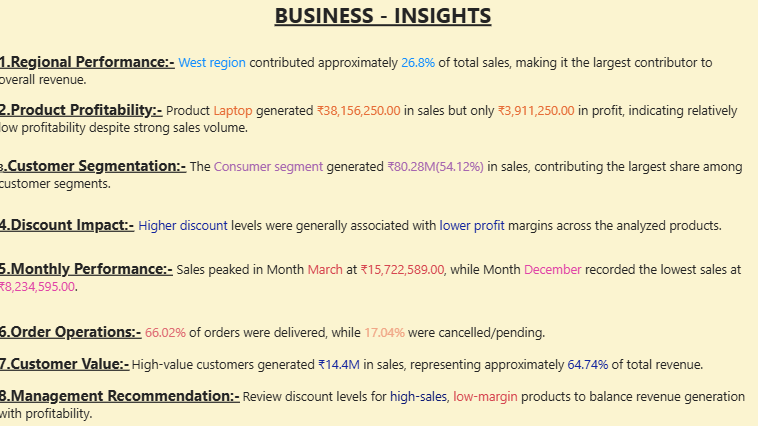

This screenshot's page, from the dashboard's own definition file:
{"tool":"powerbi","page":{"name":"05.Business Insights Analyze","canvas":[1920,1080],"ordinal":4},"visuals":[{"type":"textbox","box":[0,128.5,1892.3,100.8],"z":0},{"type":"textbox","box":[0,249.4,1892.3,108.3],"z":1},{"type":"textbox","box":[0,390.6,1892.3,118.4],"z":2},{"type":"textbox","box":[0,539.2,1920,85.7],"z":3},{"type":"textbox","box":[0,650.1,1892.3,141.1],"z":4},{"type":"textbox","box":[0,808.8,1892.3,80.6],"z":5},{"type":"textbox","box":[0,889.4,1920,80.6],"z":6},{"type":"textbox","box":[0,970.1,1920,110.9],"z":7},{"type":"textbox","box":[345.2,0,1249.8,128.5],"z":8}]}

Visuals, with their boxes in screenshot pixels (x1, y1, x2, y2), scaled from the page's 1920x1080 canvas onto the 758x426 screenshot:
textbox: <box>0,51,747,90</box>
textbox: <box>0,98,747,141</box>
textbox: <box>0,154,747,201</box>
textbox: <box>0,213,757,246</box>
textbox: <box>0,256,747,312</box>
textbox: <box>0,319,747,351</box>
textbox: <box>0,351,757,383</box>
textbox: <box>0,383,757,425</box>
textbox: <box>136,0,630,51</box>
